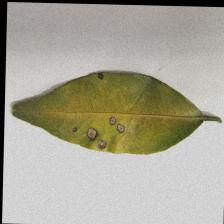canker: (58, 66, 131, 156)
